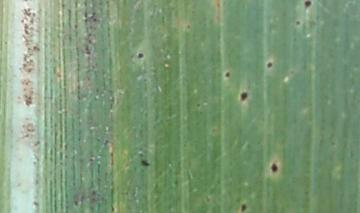tarspot: (239, 89, 251, 103), (298, 1, 317, 9), (263, 60, 276, 71), (270, 162, 281, 174), (139, 158, 152, 168), (239, 203, 250, 213), (223, 69, 231, 80), (136, 52, 146, 59), (294, 19, 302, 26)
